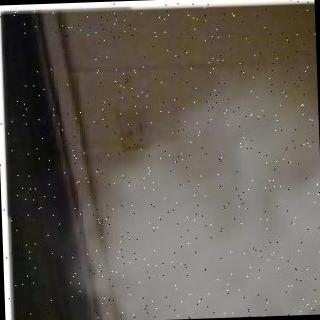smoke: (68, 76, 320, 320)
